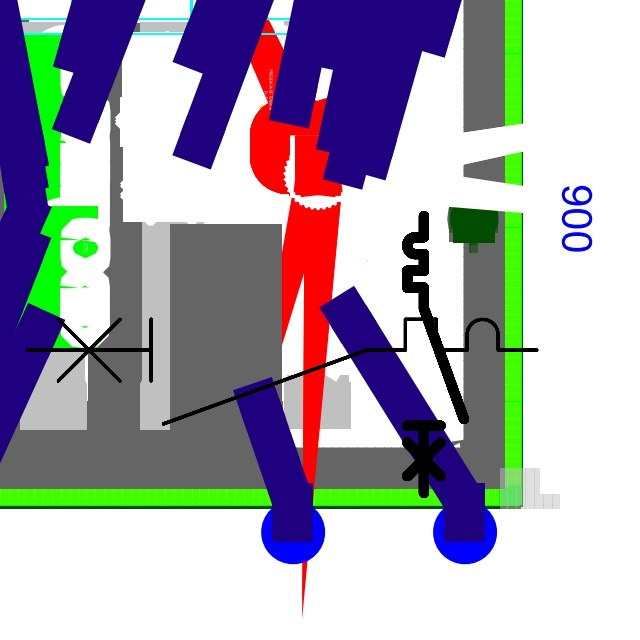interruptor_termomagnetico: (14, 306, 550, 437), (400, 209, 471, 500)
